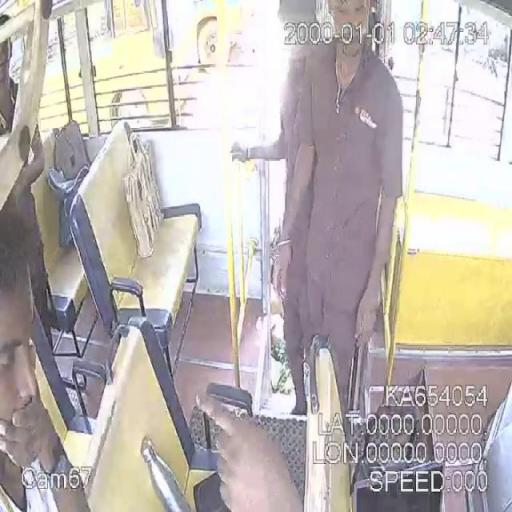persona: (266, 0, 404, 417), (0, 124, 92, 511)
